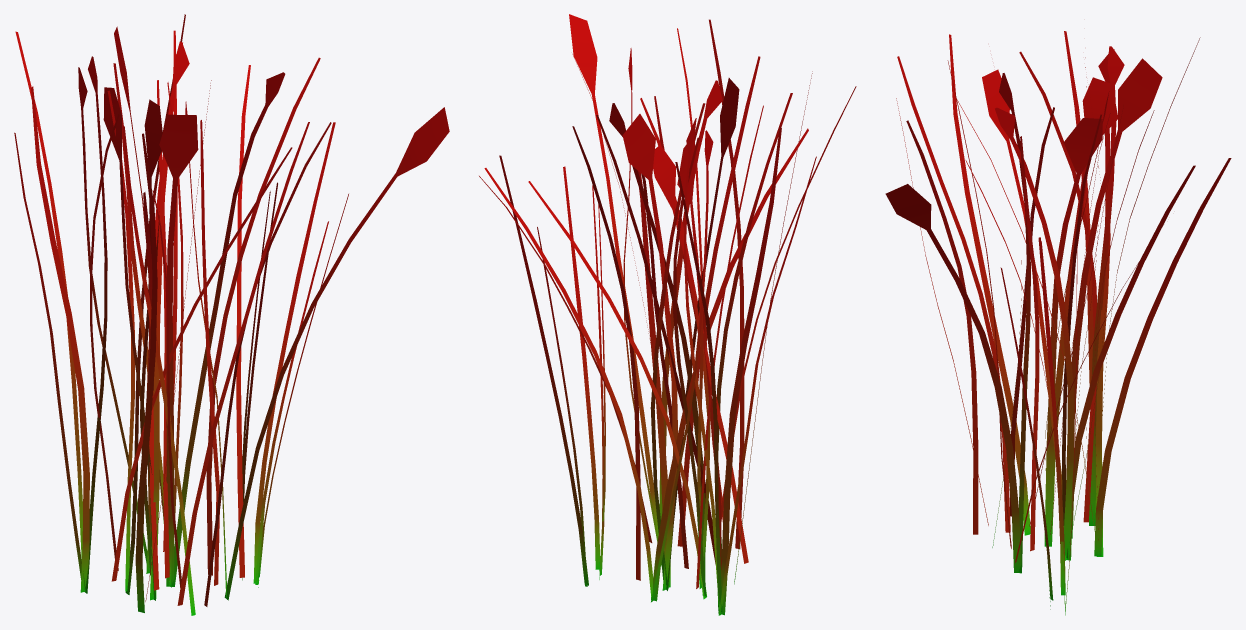
File: Softstem Bulrush_LOD2_Var5_uehjcafia.fbx
3 views of the same model, side by side, from view 1: azimuth 30°, elevation 25°; view 2: azimuth 150°, elevation 25°; view 3: azimuth 270°, elevation 25° (orthographic). The views are drawn at different scales.
Visible parts, largest first — view 1: _39d3_Var5_LOD2; view 2: _39d3_Var5_LOD2; view 3: _39d3_Var5_LOD2.
Part boxes in pixels (<box>): _39d3_Var5_LOD2: <box>14,14,449,615</box>; _39d3_Var5_LOD2: <box>479,14,856,615</box>; _39d3_Var5_LOD2: <box>885,31,1231,615</box>.
Bounding box in the file's own units: 92.09 × 141 × 86.21.
